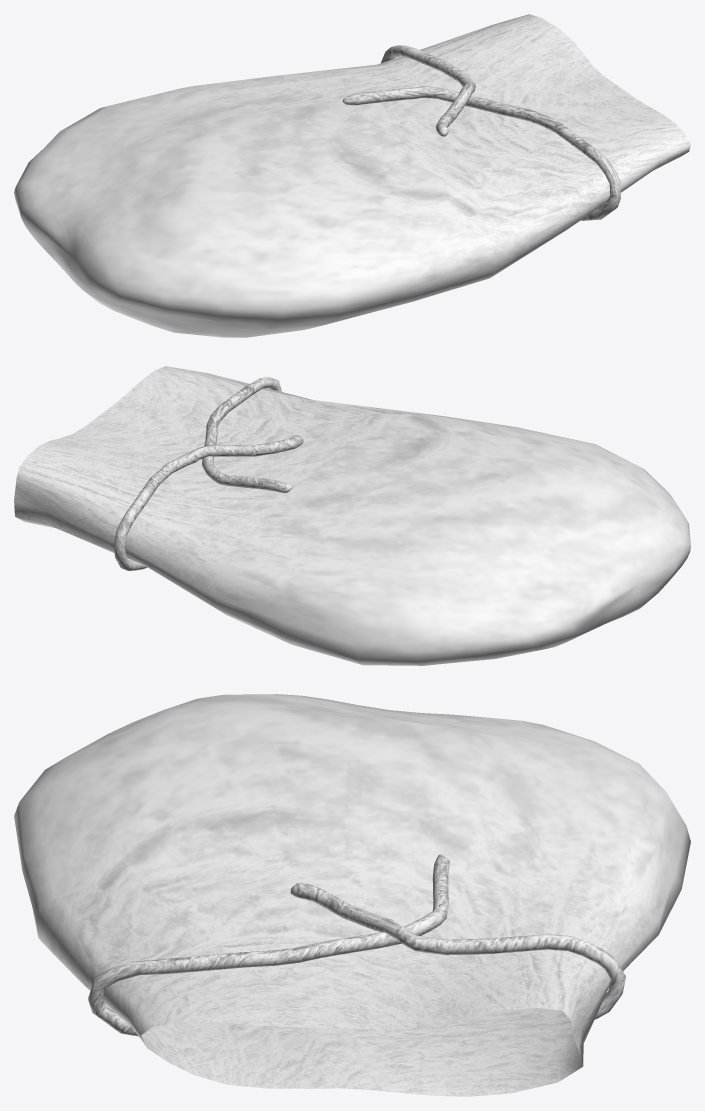
The model's file is bag.glb.
3 renders of one model, top to bottom at view 1: azimuth 30°, elevation 25°; view 2: azimuth 150°, elevation 25°; view 3: azimuth 270°, elevation 25°, orthographic. The views are drawn at different scales.
Visible parts, largest first — view 1: bag, string; view 2: bag, string; view 3: bag, string.
Part boxes in pixels (box(x1,y1,x2,y2)): bag: box(14, 14, 690, 337); string: box(342, 45, 620, 220); bag: box(14, 366, 690, 665); string: box(113, 377, 303, 570); bag: box(14, 694, 690, 1096); string: box(88, 854, 625, 1036).
Size of the model in its own units: 1.07 by 0.2108 by 0.8367.
2 materials, 2 textured.
